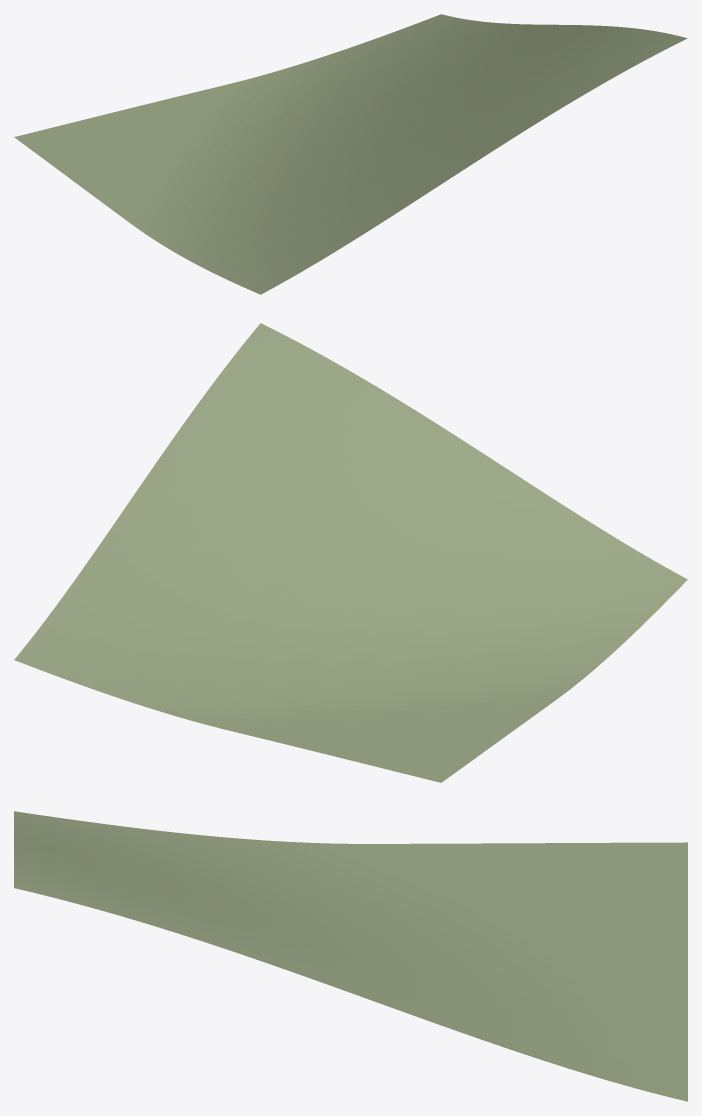
The model's file is desert-24-18.glb.
3 renders of one model, top to bottom at view 1: azimuth 30°, elevation 25°; view 2: azimuth 150°, elevation 25°; view 3: azimuth 270°, elevation 25°, orthographic. The views are drawn at different scales.
Visible parts, largest first — view 1: desert-24-18; view 2: desert-24-18; view 3: desert-24-18.
Boxes of the visible parts, box(x1,y1,x2,y2) form: desert-24-18: box(14, 14, 687, 294); desert-24-18: box(14, 323, 687, 782); desert-24-18: box(14, 811, 687, 1101).
Bounding box in the file's own units: 512 × 202 × 512.
